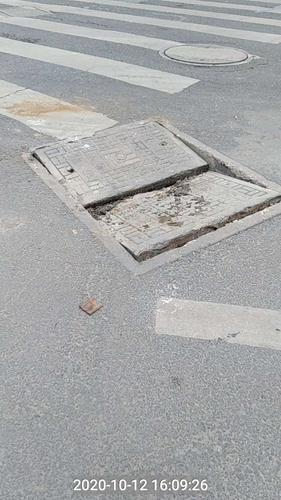broke: (20, 99, 279, 278)
